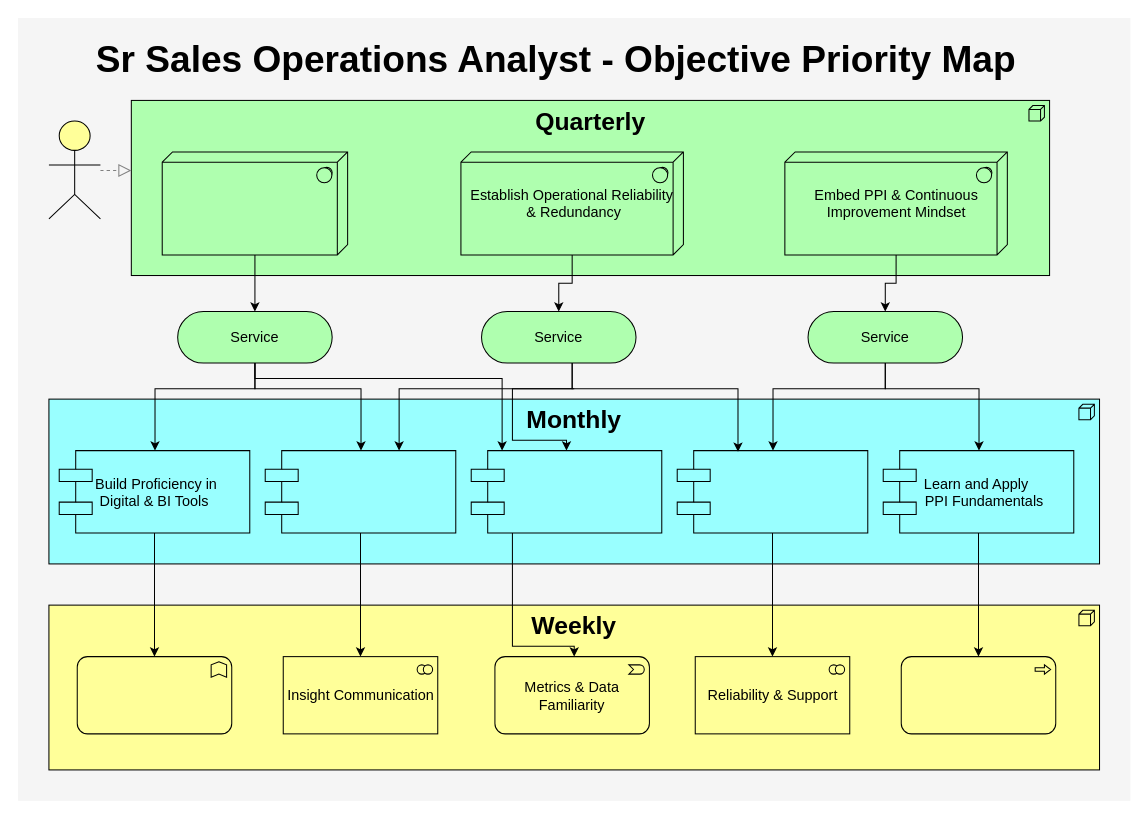
Image size: 1147x818. Some labels were removed from this diagram. Here are the shapes that lost their labels. From the top down, the centre of each, then its label:
At [254,203]: "Build Trusted Digital & Analytics Enablement".
At [360,491]: "Apply Data Storytelling in Team Interactions".
At [566,491]: "Master Core Sales & Customer Metrics".
At [772,491]: "Identify and Discuss Efficiency Opportunities".
At [154,695]: "Tool Practice & Exploration".
At [978,695]: "PPI Observation & Application".
